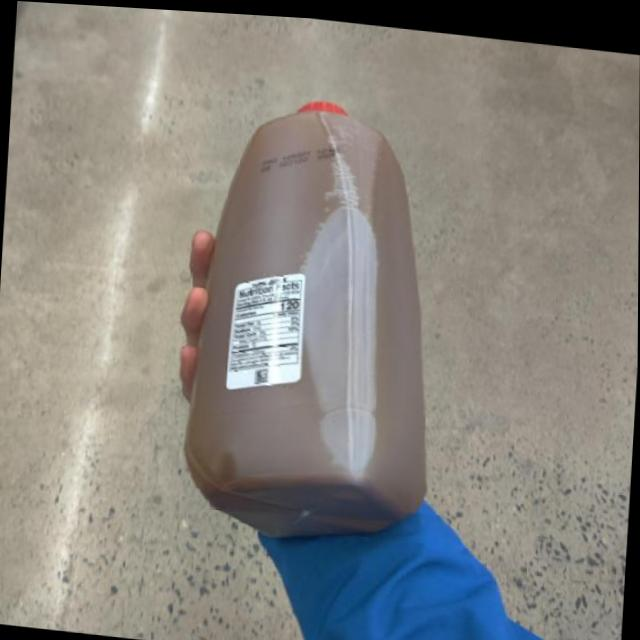Juice: (176, 72, 458, 544)
